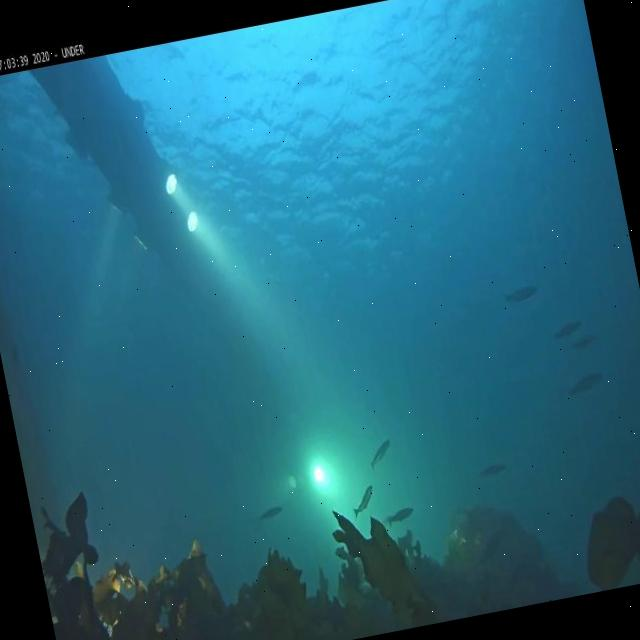fish: (566, 368, 608, 398), (502, 282, 544, 310), (368, 440, 396, 470), (380, 507, 420, 527), (566, 331, 599, 354), (349, 488, 376, 514), (554, 318, 586, 336), (480, 462, 510, 480), (258, 506, 284, 524)
